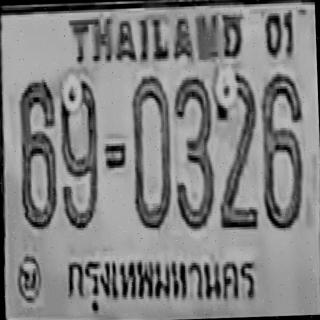N00: (129, 73, 173, 228)
N02: (213, 74, 260, 230)
N03: (171, 74, 215, 229)
N06: (258, 71, 306, 228), (17, 77, 58, 230)
N09: (57, 74, 100, 229)
P04: (59, 242, 264, 320)
